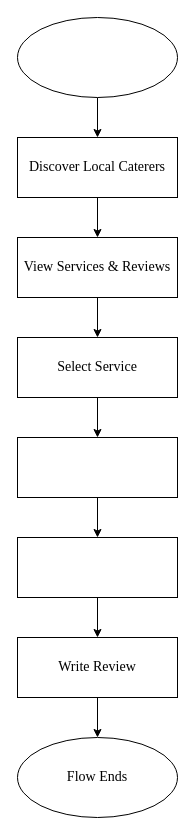
Some shapes in this 195 by 835 pixel diagram are drawn without their labels. The shapes that lost their labels are listed below. From the top down, each one's centre as x and y in pixels, then its label:
(97,57): Customer Enters System
(97,467): Create Booking
(97,567): Track Booking Status
